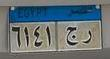1: (44, 25, 53, 47), (24, 26, 30, 46)
4: (33, 25, 42, 48)
6: (11, 26, 21, 47)
jeem: (66, 25, 79, 46)
raa: (83, 30, 91, 44)
